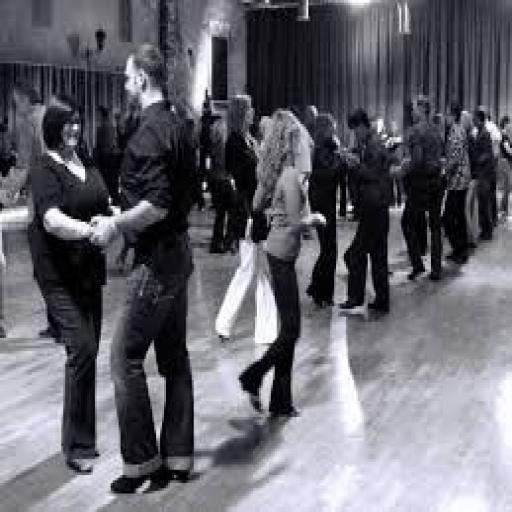dancing: (247, 34, 511, 450), (87, 40, 200, 496)
